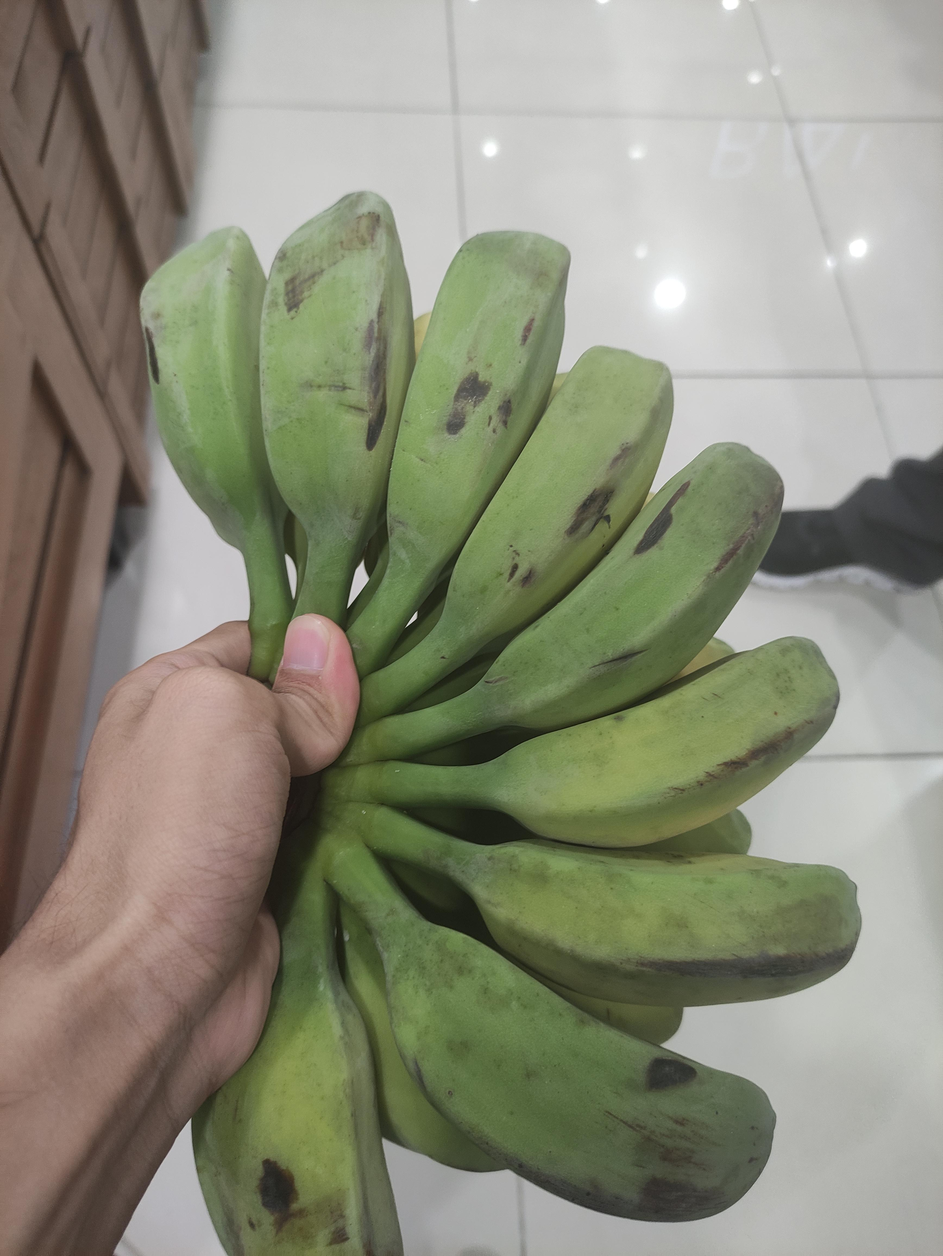underripe: (142, 192, 860, 1256)
